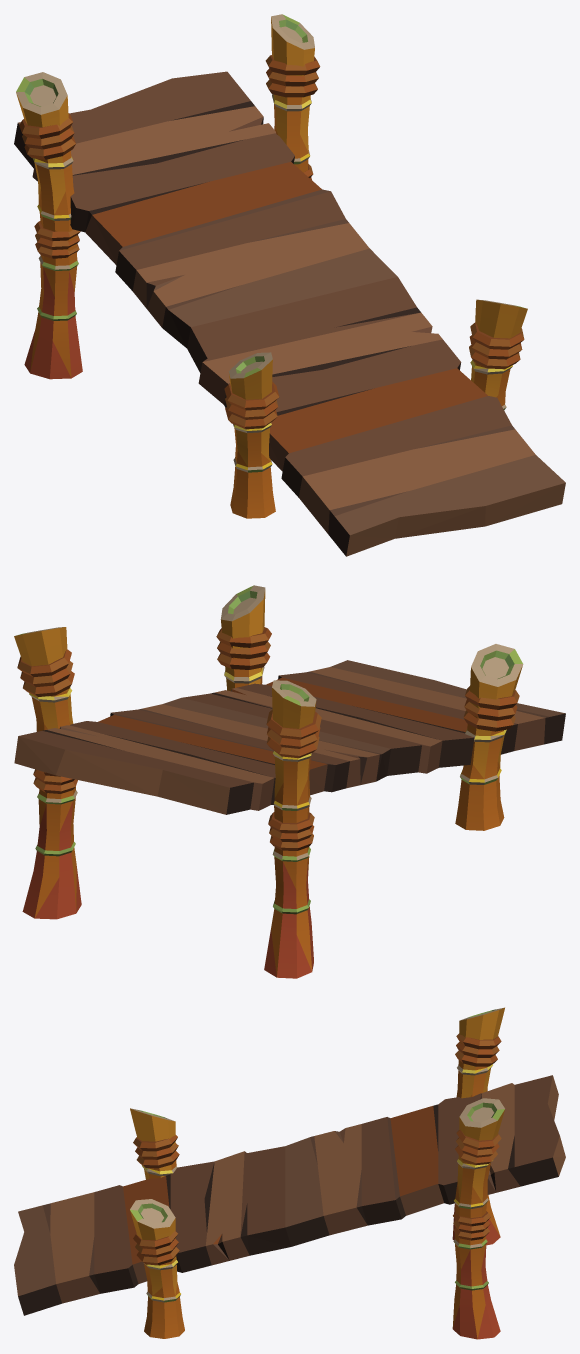
File: itch_fishing_village_platform2.glb
3 renders of one model, top to bottom at view 1: azimuth 30°, elevation 25°; view 2: azimuth 150°, elevation 25°; view 3: azimuth 270°, elevation 25°, orthographic. The views are drawn at different scales.
Visible parts, largest first — view 1: platform2.001; view 2: platform2.001; view 3: platform2.001.
Part boxes in pixels (left/top/right/bottom): platform2.001: left=14, top=14, right=565, bottom=556; platform2.001: left=14, top=585, right=565, bottom=978; platform2.001: left=14, top=1007, right=565, bottom=1339.
Size of the model in its own units: 0.5356 by 0.4878 by 1.06.
